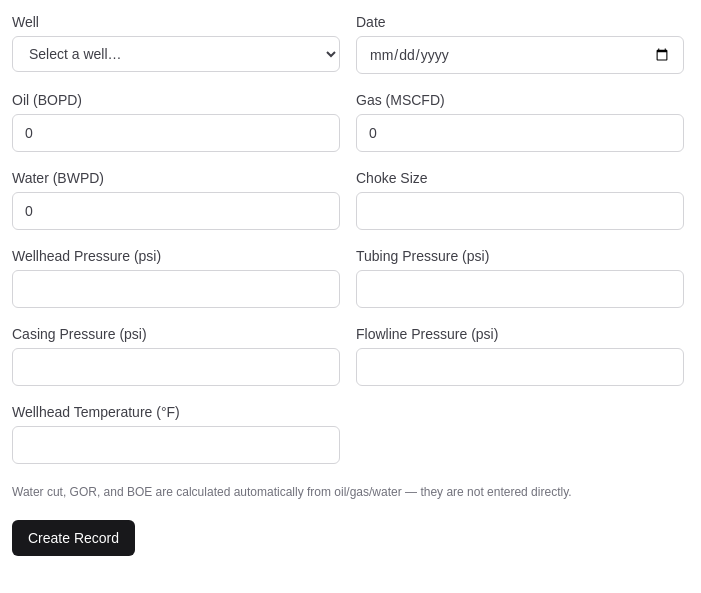
ProductionForm › rejects negative oil production
Select "NDF-01-001 — NDF Well 001" in the dropdown labelled "Well" at point(176, 54), box [12, 36, 340, 72]
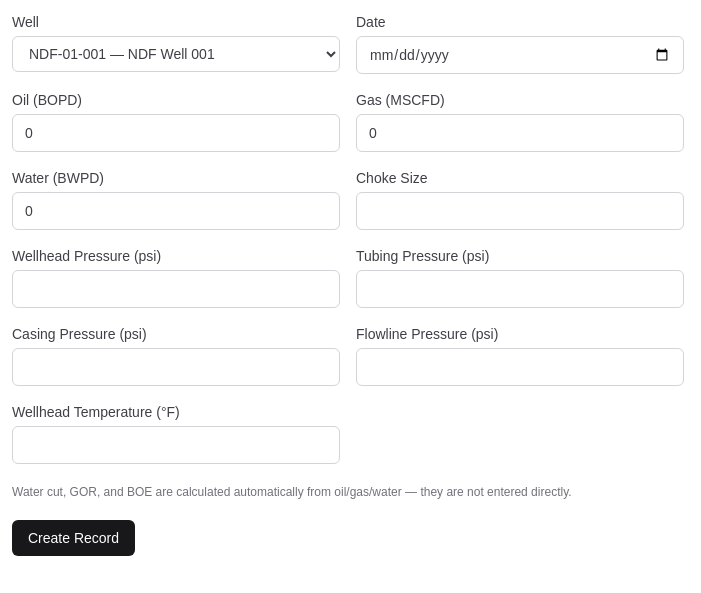
Type "2026-06-01" into the date field labelled "Date" at point(520, 55), box [356, 36, 684, 74]
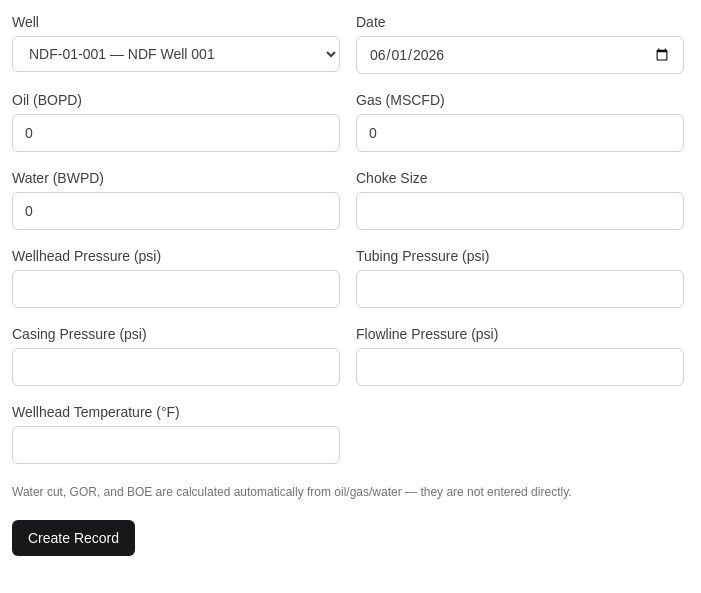
Replace the text in the field labelled "Oil (BOPD)" with "-10" at point(176, 133), box [12, 114, 340, 152]
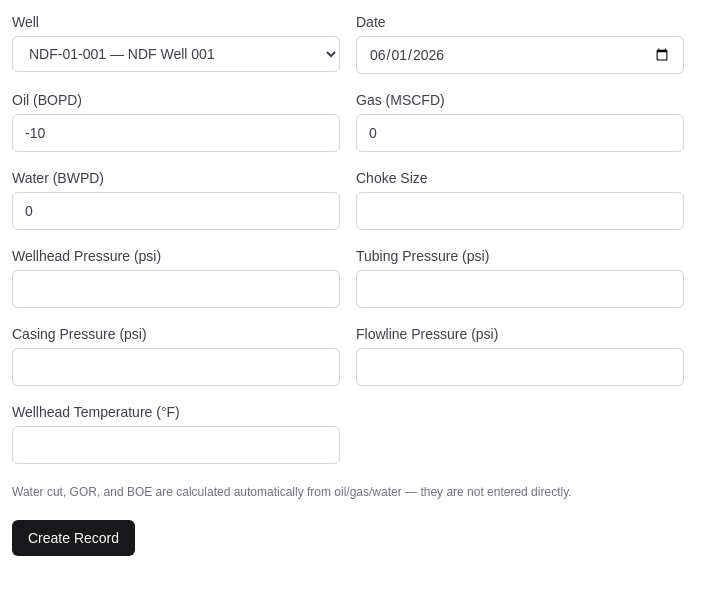
Click the button "Create Record" at point(74, 538), box [12, 520, 135, 556]
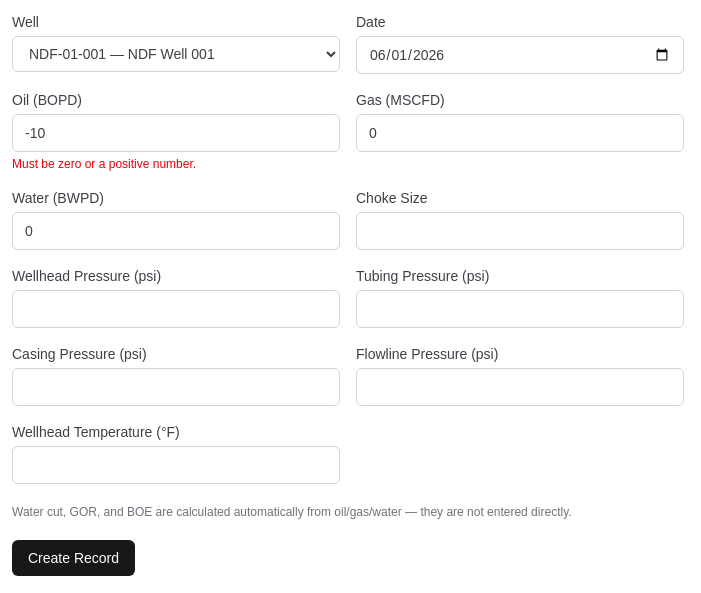
Now the text "Must be zero or a positive number." is shown, box [12, 157, 196, 171]
